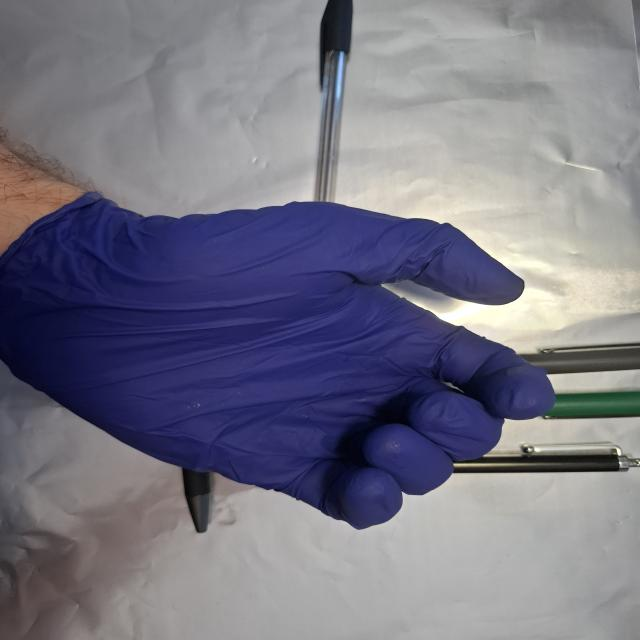glove_on: (3, 188, 560, 533)
